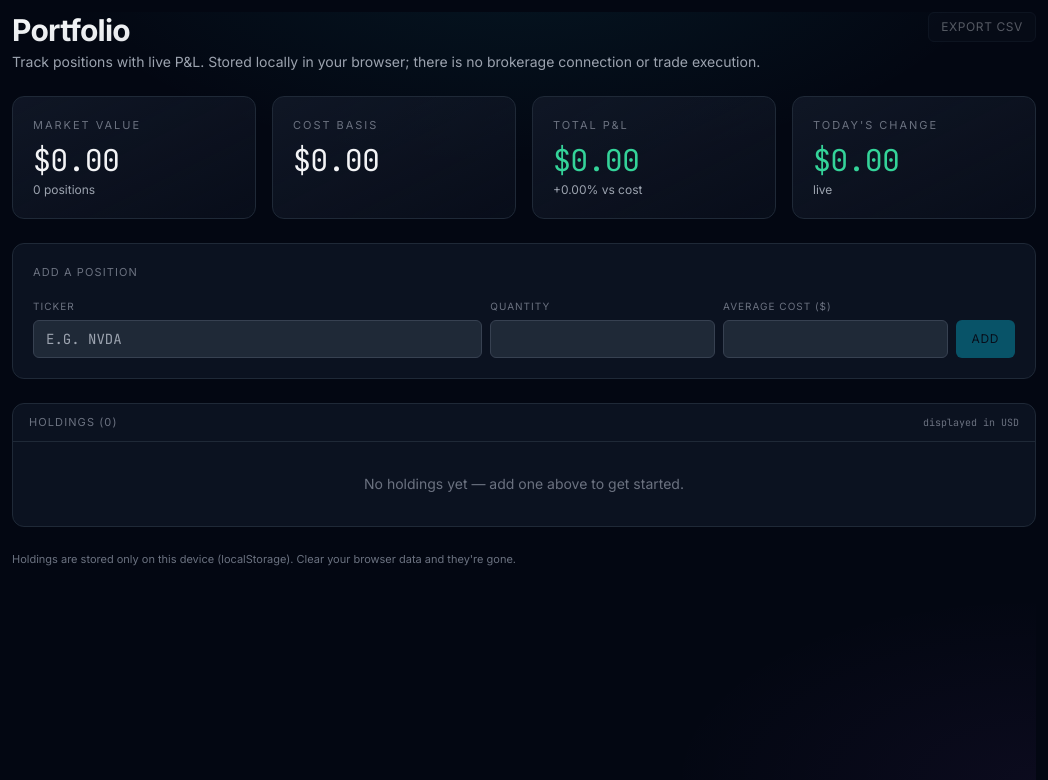
selects a ticker suggestion with ArrowDown and Enter
Type "nv" into the dropdown labelled "Ticker" at [258, 339], box [33, 320, 482, 358]
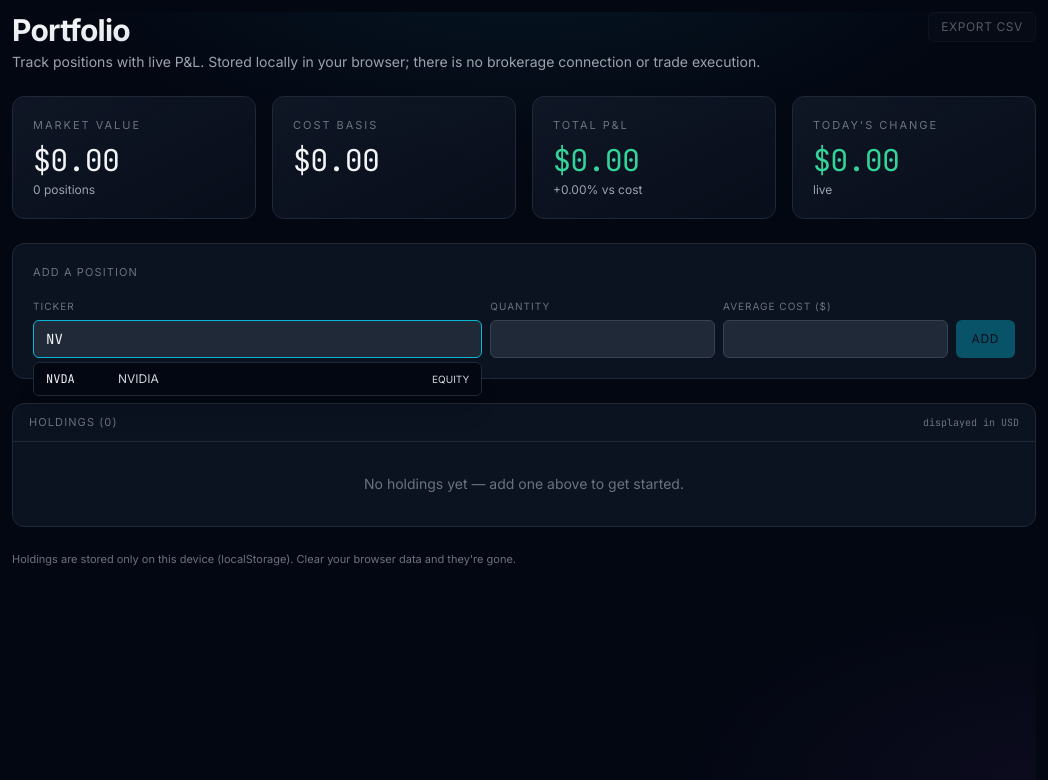
Press Arrowdown
Press Enter
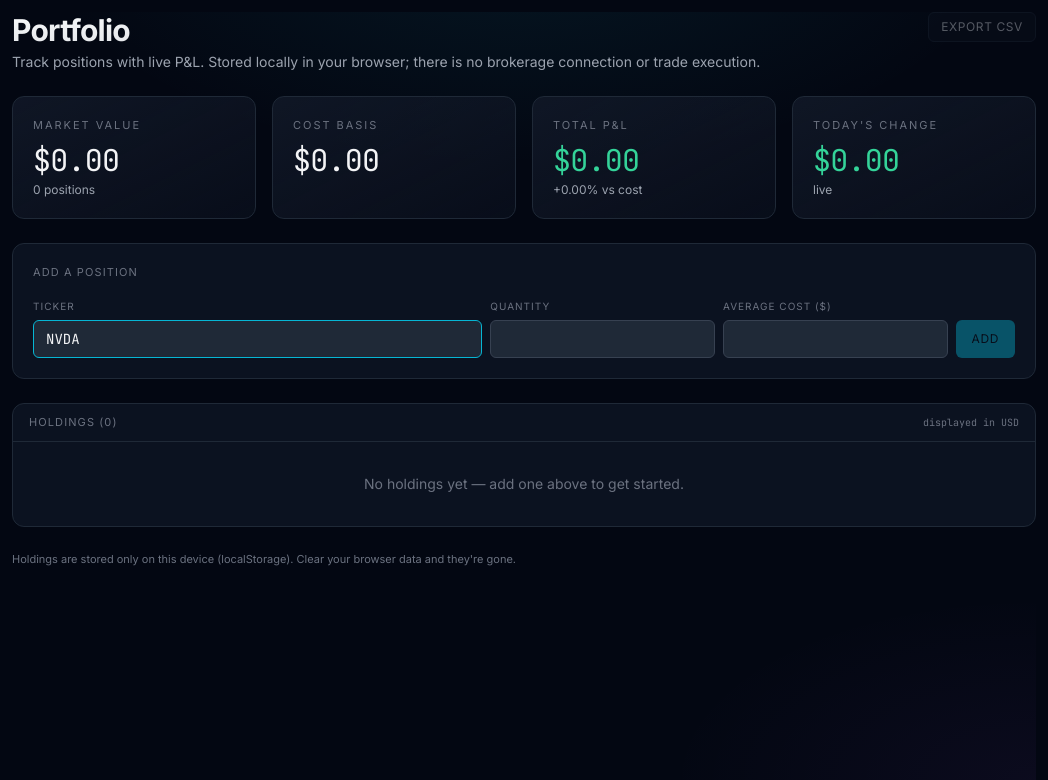
Result: the dropdown labelled "Ticker" holds "NVDA" at [33, 320, 482, 358]
Result: the dropdown labelled "Ticker" is collapsed at [33, 320, 482, 358]
